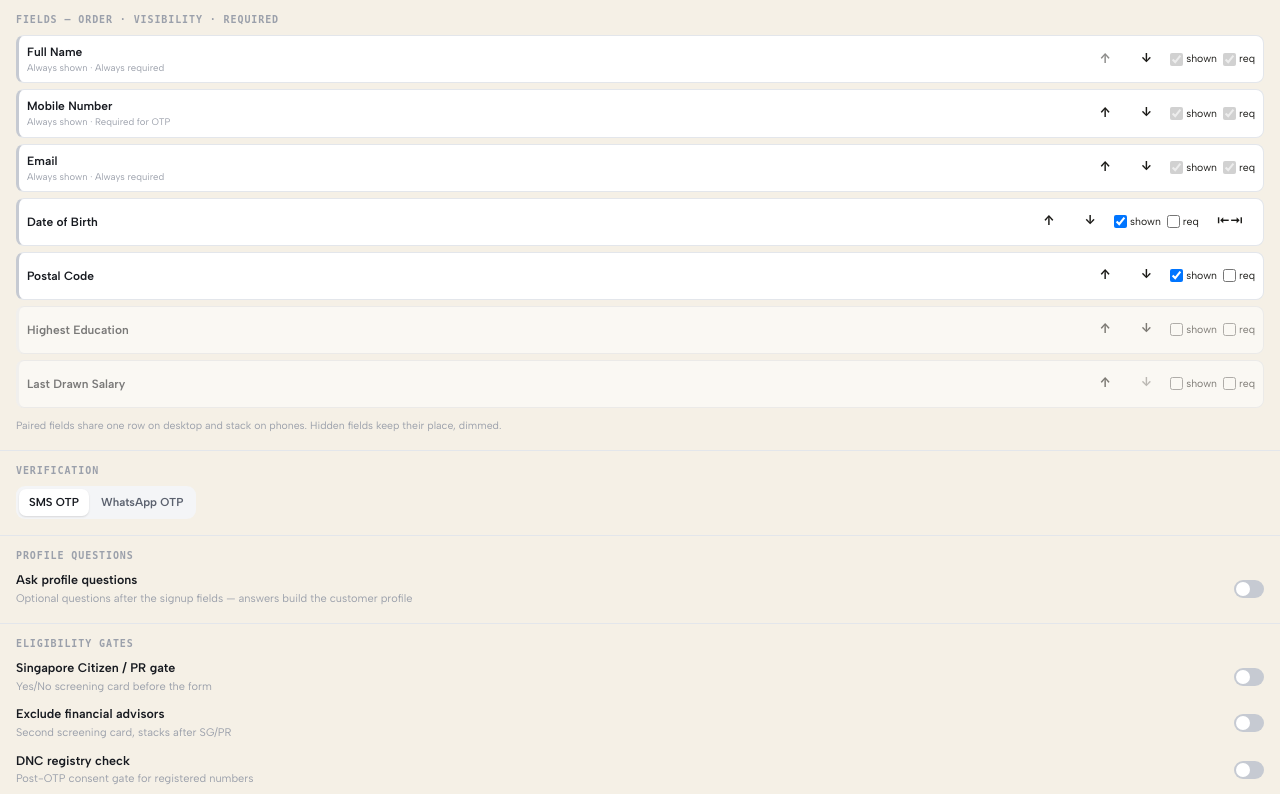
Test: FormPanel — fields editor mechanics (mock parity) › PR 5: a server-VERIFIED WhatsApp config swaps the warning for the confirmation note
Click the button "WhatsApp OTP" at coordinates (142, 502), box [91,488,193,516]
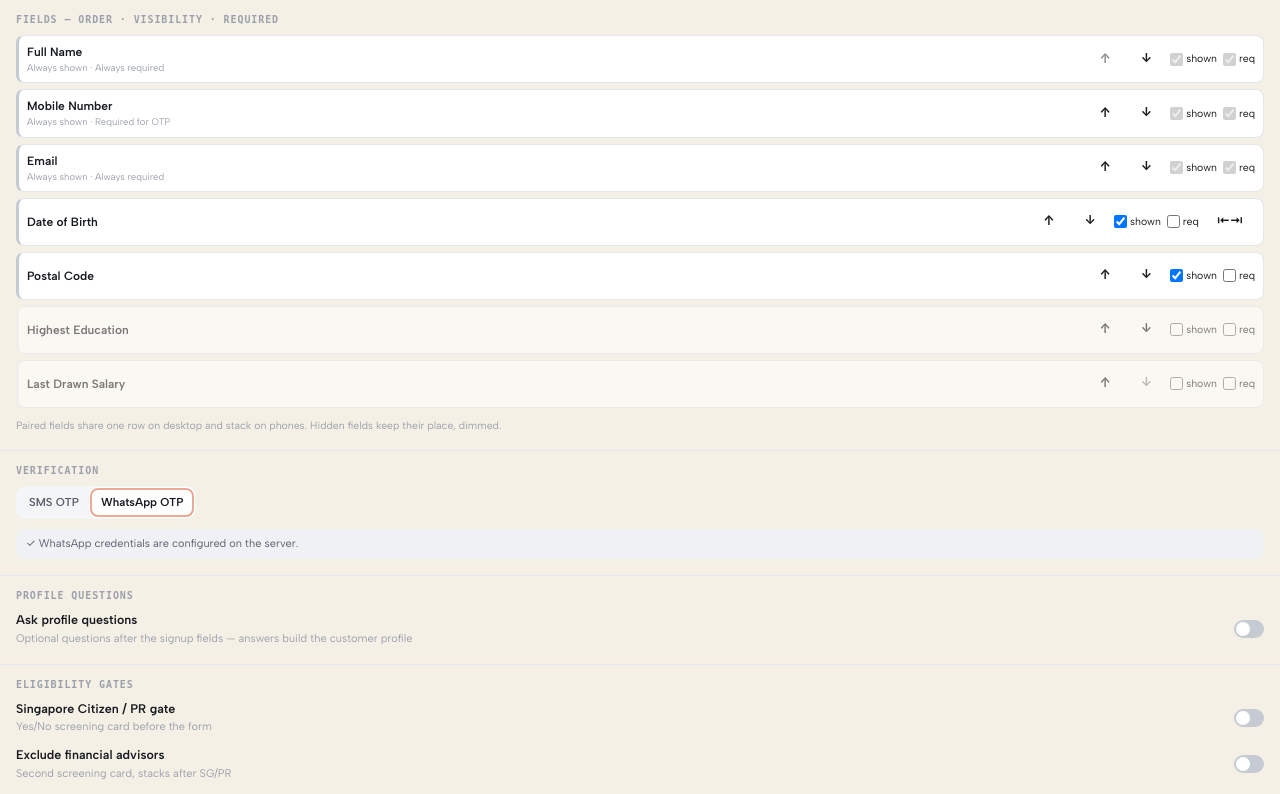
Expected: the text "✓ WhatsApp credentials are configured on the server." is shown, [16,529,1264,559]
